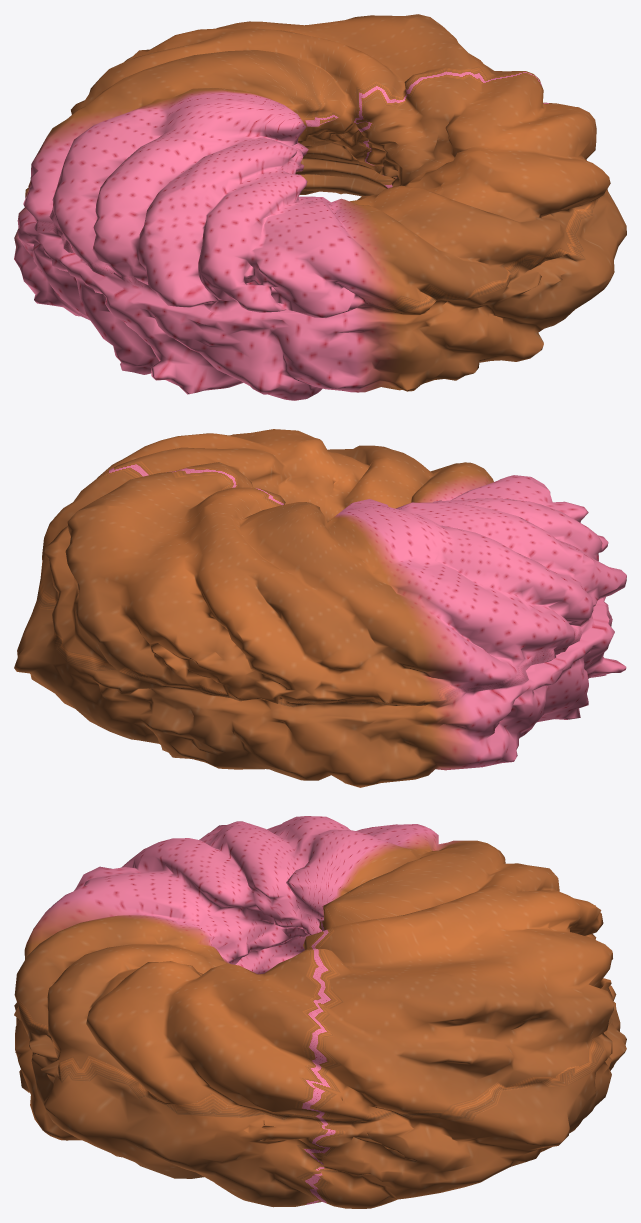
File: frenchCruller.glb
The picture shows the model from 3 angles, top to bottom: view 1: azimuth 30°, elevation 25°; view 2: azimuth 150°, elevation 25°; view 3: azimuth 270°, elevation 25°; orthographic projection. The views are drawn at different scales.
Parts seen in each view (by area): view 1: FrenchCruller; view 2: FrenchCruller; view 3: FrenchCruller.
Boxes of the visible parts, x1,y1,x2,y2 form: FrenchCruller: (14,14,626,400); FrenchCruller: (14,429,626,787); FrenchCruller: (14,816,626,1208).
Size of the model in its own units: 0.1263 by 0.0526 by 0.1262.
Materials: 1 (1 with a texture image).
